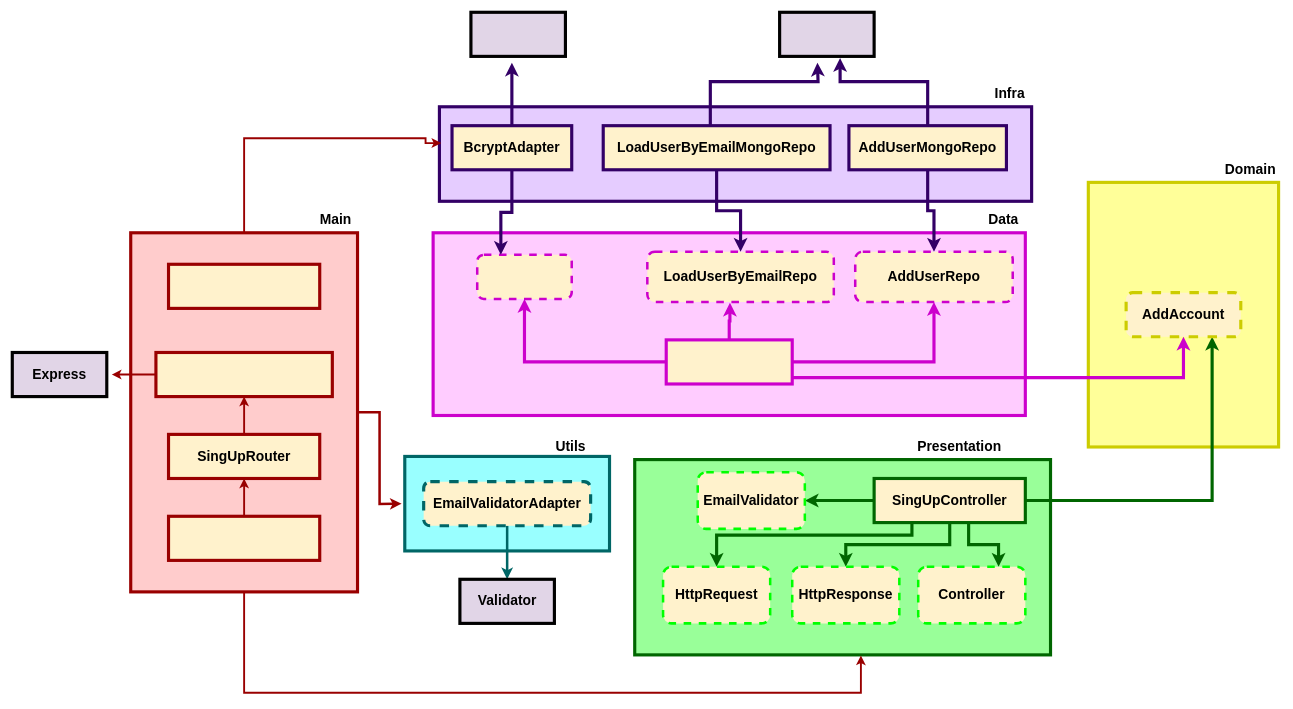
Image size: 1293x709. Some labels were removed from this diagram. The shapes that lost their labels are listed below. From the top down, each one's centre as x and y in pixels, then its label:
the point at 518,34: BCrypt
the point at 826,34: MongoDb
the point at 244,286: SingUpComposer
the point at 524,276: Encrypter
the point at 244,374: ExpressRouteAdapter
the point at 728,361: DbAddAccount
the point at 244,538: App
